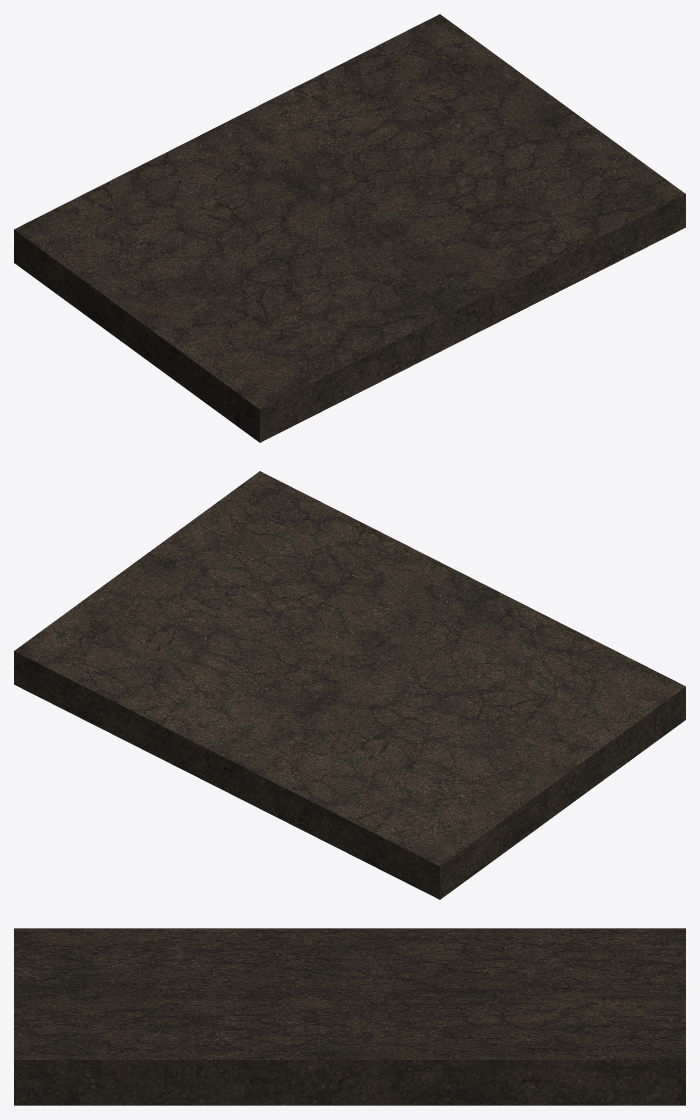
File: floor_ceiling_hs_4.glb
3 renders of one model, top to bottom at view 1: azimuth 30°, elevation 25°; view 2: azimuth 150°, elevation 25°; view 3: azimuth 270°, elevation 25°, orthographic. The views are drawn at different scales.
Visible parts, largest first — view 1: floor_ceiling_hs_4; view 2: floor_ceiling_hs_4; view 3: floor_ceiling_hs_4.
Part boxes in pixels (x1=…): floor_ceiling_hs_4: x1=14, y1=14, x2=685, y2=442; floor_ceiling_hs_4: x1=14, y1=471, x2=685, y2=899; floor_ceiling_hs_4: x1=14, y1=928, x2=685, y2=1105.
Bounding box in the file's own units: 4 × 1.3 × 4.
Materials: 1 (1 with a texture image).
